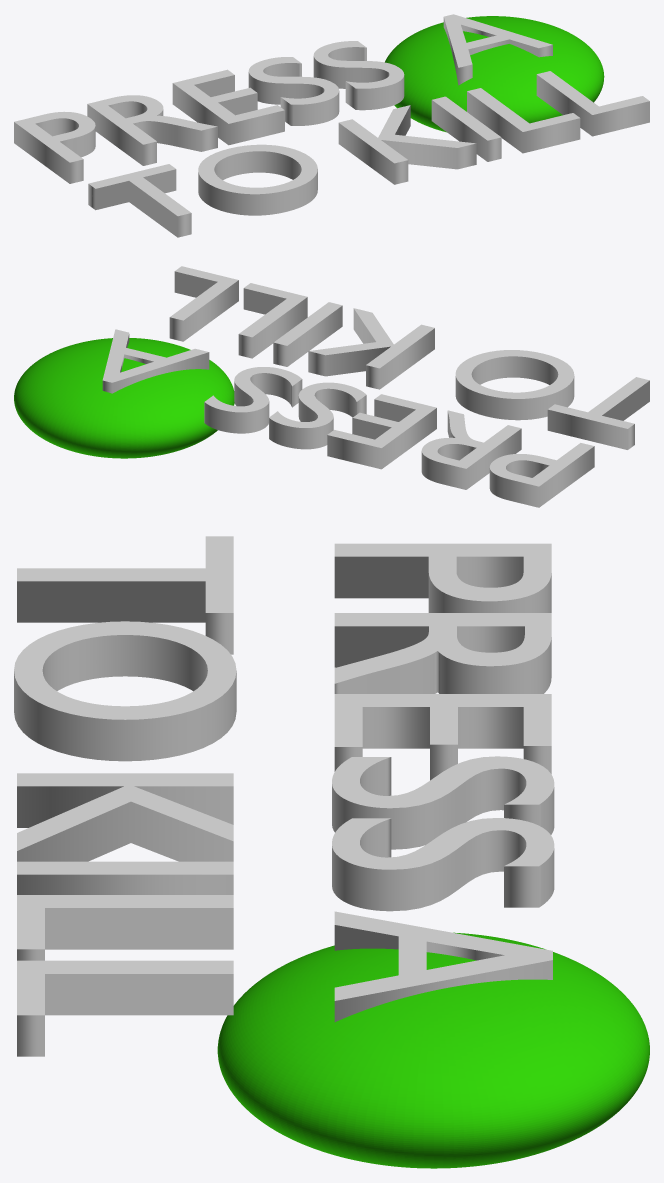
The model's file is PressA.fbx.
3 views of the same model, one above another, from view 1: azimuth 30°, elevation 25°; view 2: azimuth 150°, elevation 25°; view 3: azimuth 270°, elevation 25° (orthographic). The views are drawn at different scales.
Parts seen in each view (by area): view 1: Text, Sphere; view 2: Text, Sphere; view 3: Text, Sphere.
Part boxes in pixels (x1,y1,x2,y2): Text: (14,14,649,237); Sphere: (385,16,604,132); Text: (102,266,649,507); Sphere: (14,338,234,458); Text: (14,536,554,1056); Sphere: (217,932,649,1168).
Bounding box in the file's own units: 389 × 54.52 × 200.
